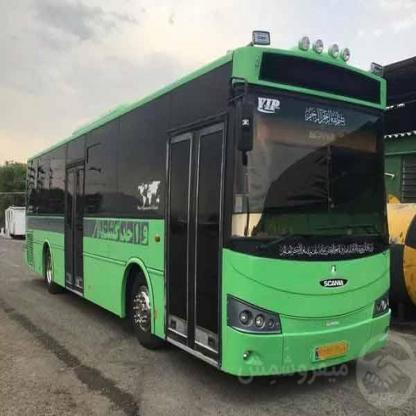Bus: (24, 32, 401, 387)
